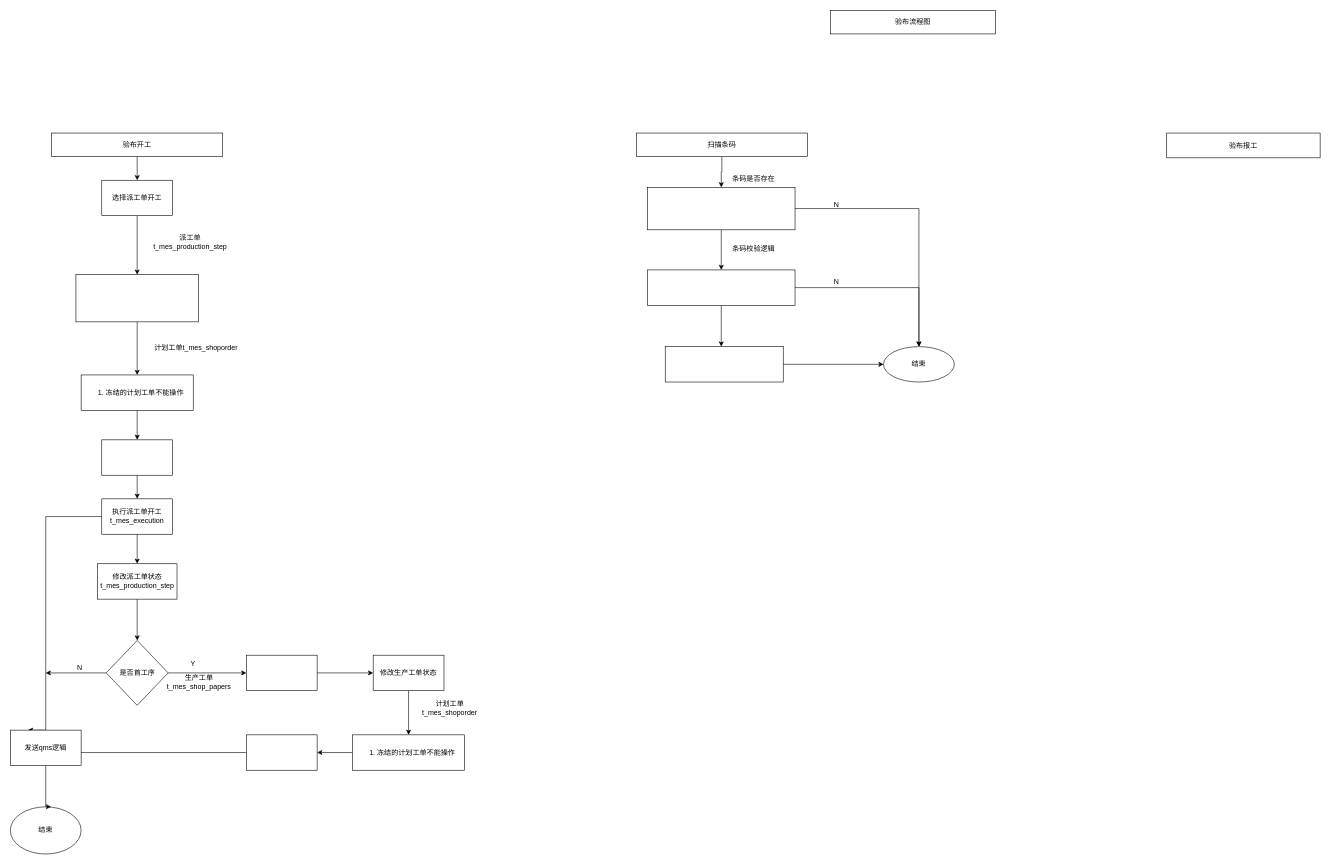
This 1330x864 diagram has some shape labels left out. Here are the shapes that lost their labels. From the top down, the centre of each, then its label:
At pixel 721 208: "1.条码表(t_mes_sku_barcode)是否存在或者执行派工单(t_mes_execution)是否存在 2.校验数量".
At pixel 136 298: "完工不能开工 暂停不能开工 一开多报只能是未开工状态 上一工序必须开工".
At pixel 721 287: "1.上一工序是否报工 2.是否是系统条码 3.校验来料是否是计划工单bom的子物料或者在物料对照表存在".
At pixel 724 364: "质检结果提醒".
At pixel 137 457: "创建执行派工单t_mes_execution".
At pixel 281 673: "是否冻结".
At pixel 281 752: "修改计划工单状态".
